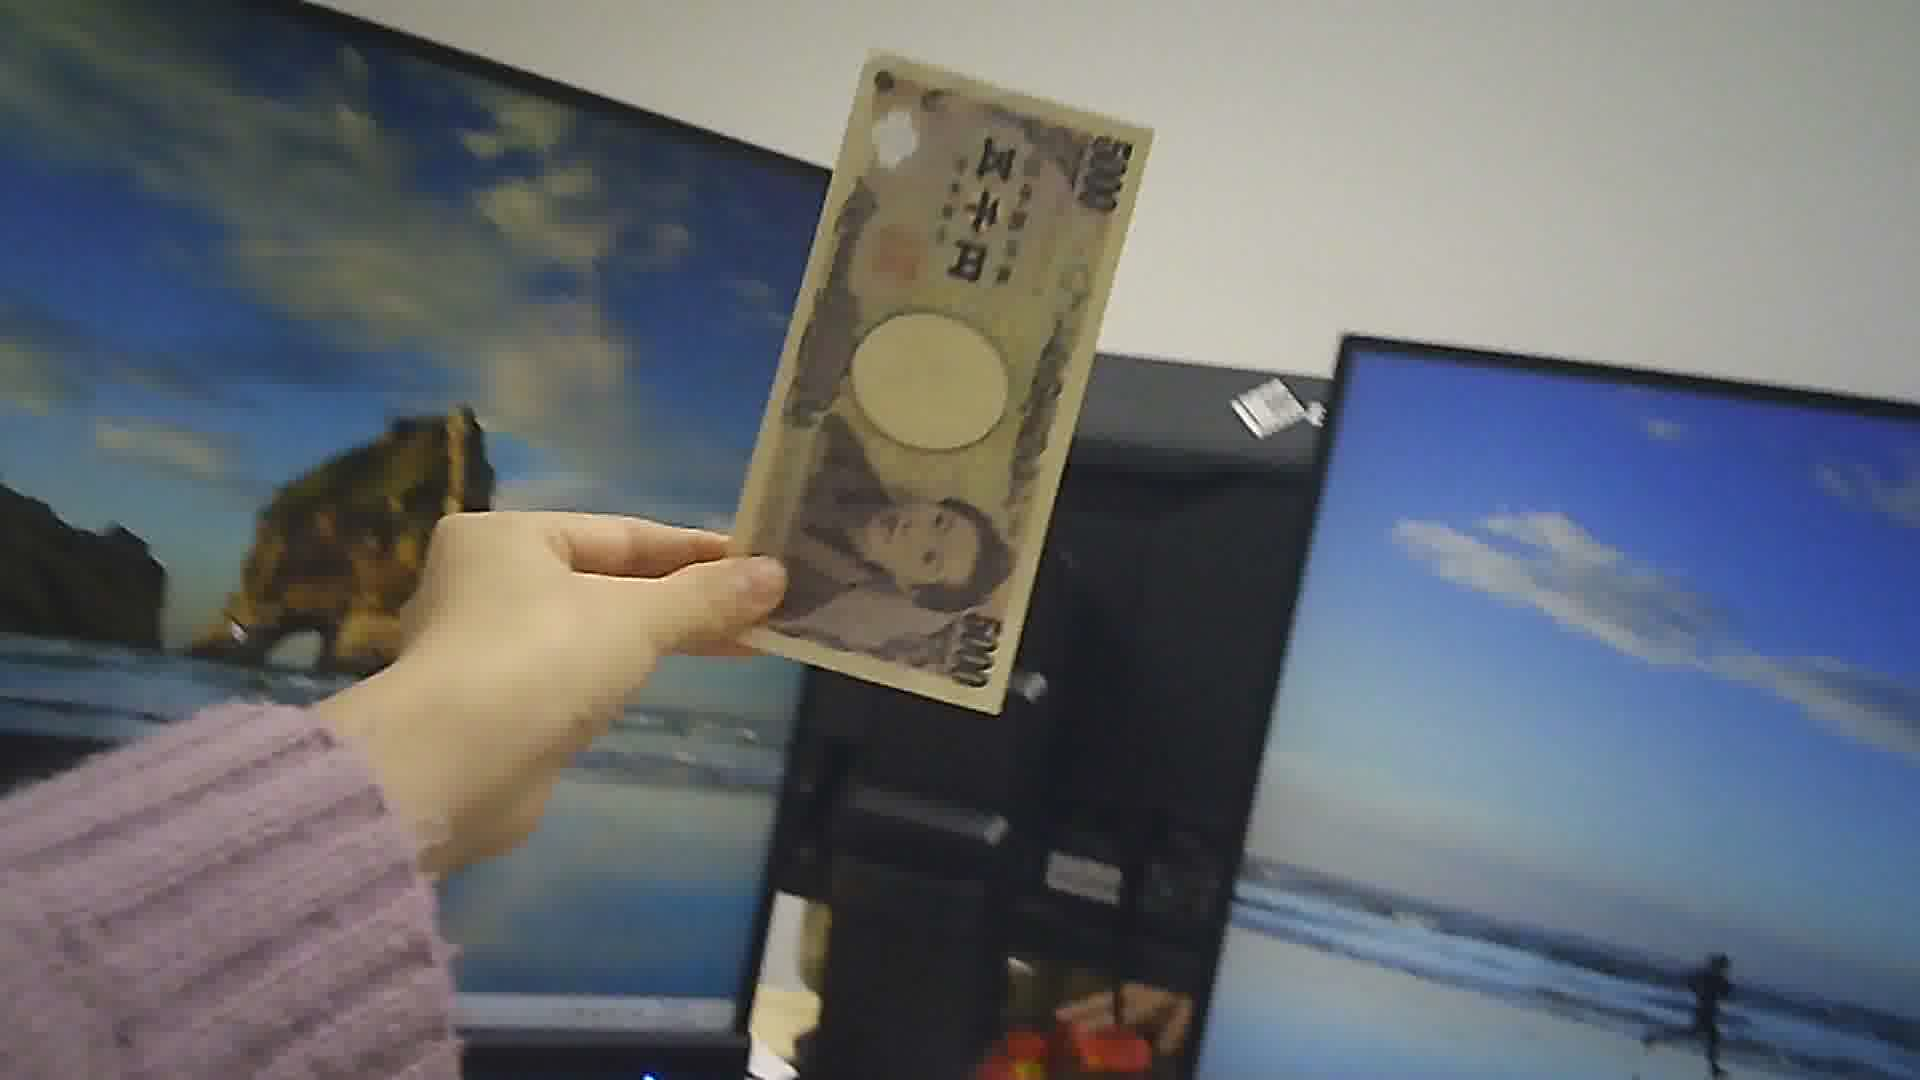5,000 Yen: (700, 28, 1164, 746)
